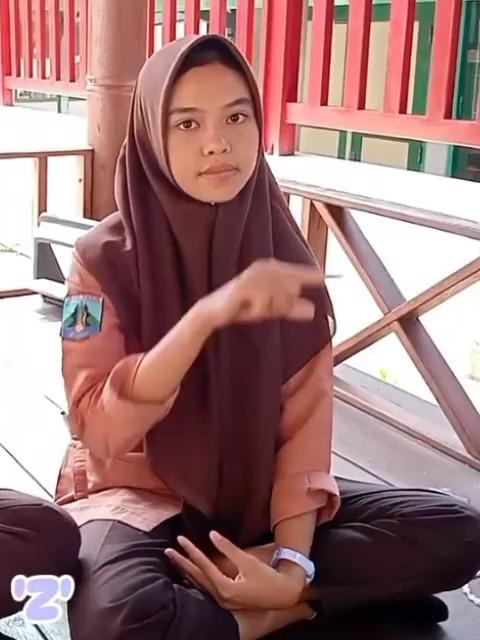Z: (207, 253, 347, 331)
